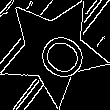O_NW: (21, 19, 86, 83)
